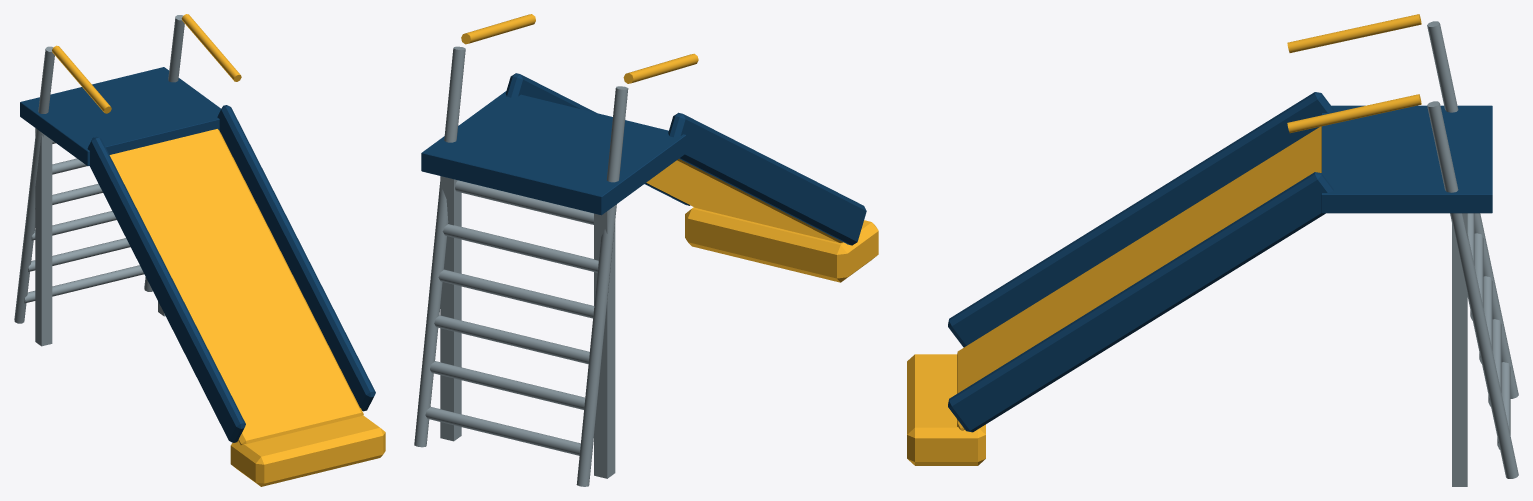
File: playground_slide.glb
The picture shows the model from 3 angles, left to right: view 1: azimuth 30°, elevation 25°; view 2: azimuth 150°, elevation 25°; view 3: azimuth 270°, elevation 25°; orthographic projection. The views are drawn at different scales.
Visible parts, largest first — view 1: paint, paint.001, metal; view 2: paint.001, metal, paint; view 3: paint.001, paint, metal.
Part boxes in pixels (x1,y1,x2,y2): paint: [52, 14, 385, 486]; paint.001: [20, 67, 375, 442]; metal: [14, 15, 184, 346]; paint.001: [421, 73, 866, 245]; metal: [414, 46, 628, 486]; paint: [461, 14, 878, 282]; paint.001: [948, 92, 1492, 432]; paint: [907, 14, 1421, 465]; metal: [1427, 21, 1518, 486].
Bounding box in the file's own units: 0.8 × 1.64 × 2.32.
